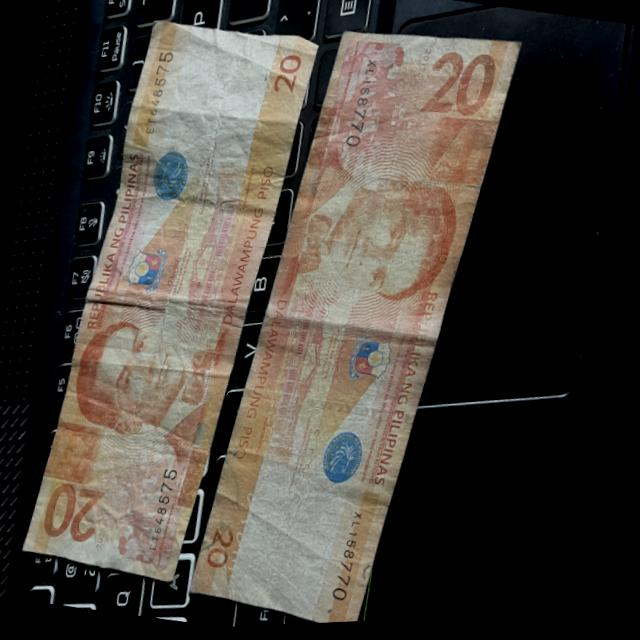concealed_value: (425, 115, 503, 193), (51, 419, 119, 488)
see_through_mark: (226, 472, 289, 591), (243, 51, 290, 151)
serial_number: (337, 501, 391, 609), (339, 52, 392, 158), (136, 45, 185, 149), (150, 461, 194, 554)
value: (409, 41, 516, 135), (42, 471, 127, 556)
watermark: (158, 35, 270, 160)
